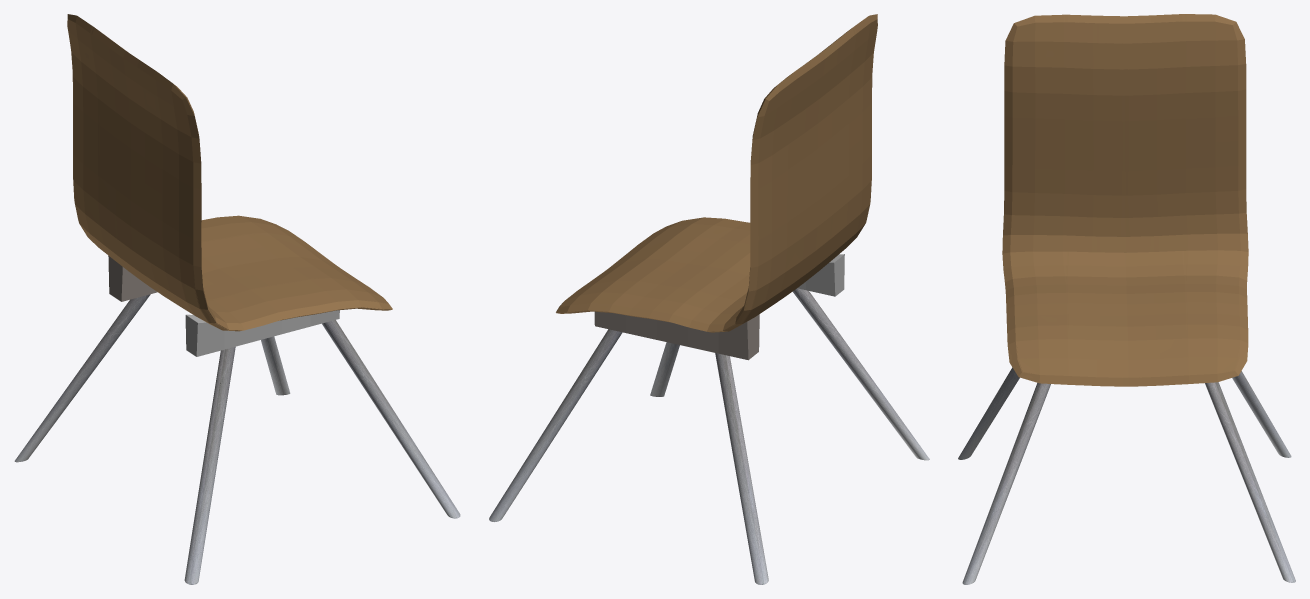
The model's file is Chair it is.fbx.
3 views of the same model, side by side, from view 1: azimuth 30°, elevation 25°; view 2: azimuth 150°, elevation 25°; view 3: azimuth 270°, elevation 25° (orthographic). The views are drawn at different scales.
Visible parts, largest first — view 1: Plane.035, Cylinder.014, Cube.100, Cube.099; view 2: Plane.035, Cylinder.014, Cube.099, Cube.100; view 3: Plane.035, Cylinder.014.
Part boxes in pixels (bbox=[...]): Plane.035: bbox=[67, 14, 392, 331]; Cylinder.014: bbox=[14, 294, 460, 584]; Cube.100: bbox=[185, 310, 339, 356]; Cube.099: bbox=[108, 255, 157, 301]; Plane.035: bbox=[556, 14, 877, 332]; Cylinder.014: bbox=[489, 288, 929, 584]; Cube.099: bbox=[594, 311, 759, 360]; Cube.100: bbox=[797, 254, 844, 296]; Plane.035: bbox=[1002, 14, 1248, 386]; Cylinder.014: bbox=[958, 367, 1295, 584].
Size of the model in its own units: 787 by 1255 by 850.
